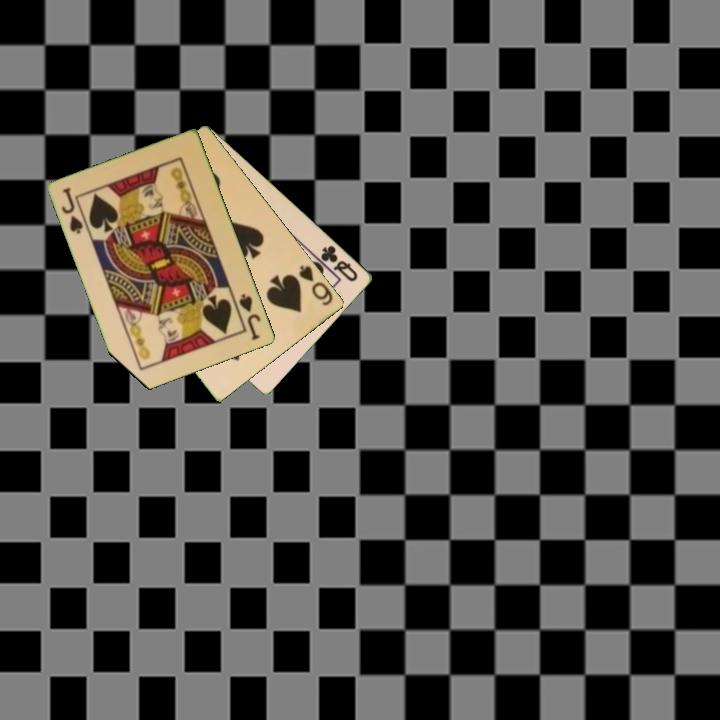6s: (296, 262, 336, 309)
Js: (236, 290, 264, 343), (58, 184, 86, 237)
Qc: (317, 242, 361, 285)
